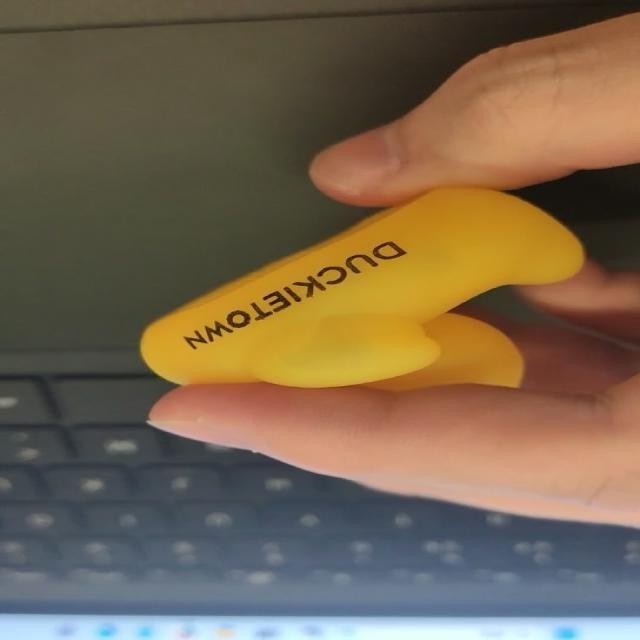rubber-duck: (139, 186, 582, 388)
